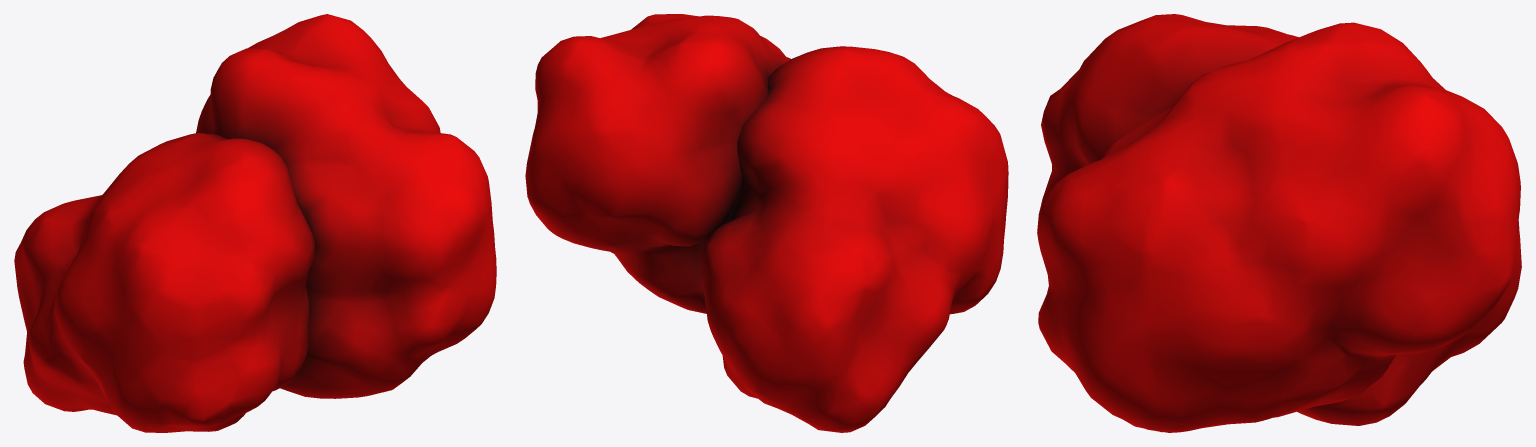
Rendered from RSC3.fbx.
The picture shows the model from 3 angles, left to right: view 1: azimuth 30°, elevation 25°; view 2: azimuth 150°, elevation 25°; view 3: azimuth 270°, elevation 25°; orthographic projection. The views are drawn at different scales.
Parts seen in each view (by area): view 1: chain_A_surface, chain_B_surface; view 2: chain_A_surface, chain_B_surface; view 3: chain_B_surface, chain_A_surface.
Boxes of the visible parts, x1,y1,x2,y2 form: chain_A_surface: (14, 133, 314, 432); chain_B_surface: (196, 14, 496, 398); chain_A_surface: (700, 46, 1008, 432); chain_B_surface: (525, 14, 790, 313); chain_B_surface: (1037, 22, 1520, 432); chain_A_surface: (1039, 14, 1521, 425).
Bounding box in the file's own units: 89.38 × 72.06 × 73.07.
